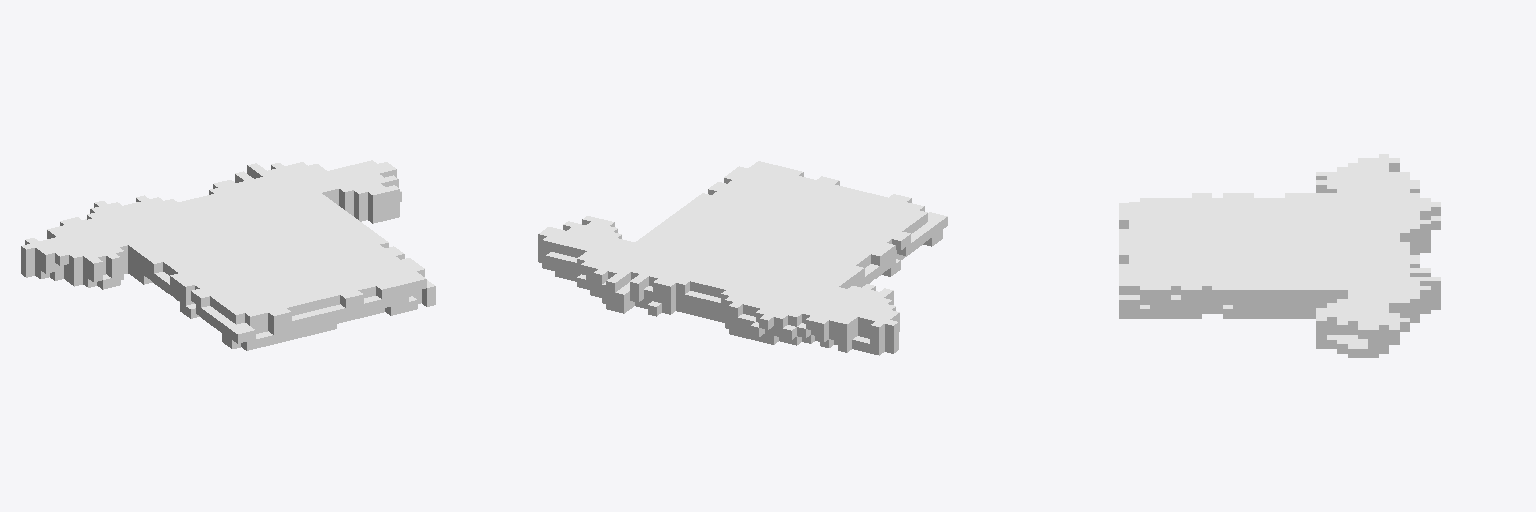
File: V-Tsha.obj
The picture shows the model from 3 angles: view 1: azimuth 30°, elevation 25°; view 2: azimuth 150°, elevation 25°; view 3: azimuth 270°, elevation 25°; orthographic projection.
Visible parts, largest first — view 1: object 1; view 2: object 1; view 3: object 1.
Boxes of the visible parts, box(x1,y1,x2,y2) form: object 1: box(21, 160, 435, 350); object 1: box(538, 161, 947, 355); object 1: box(1119, 154, 1440, 357).
Bounding box in the file's own units: 4 × 0.3 × 3.1.